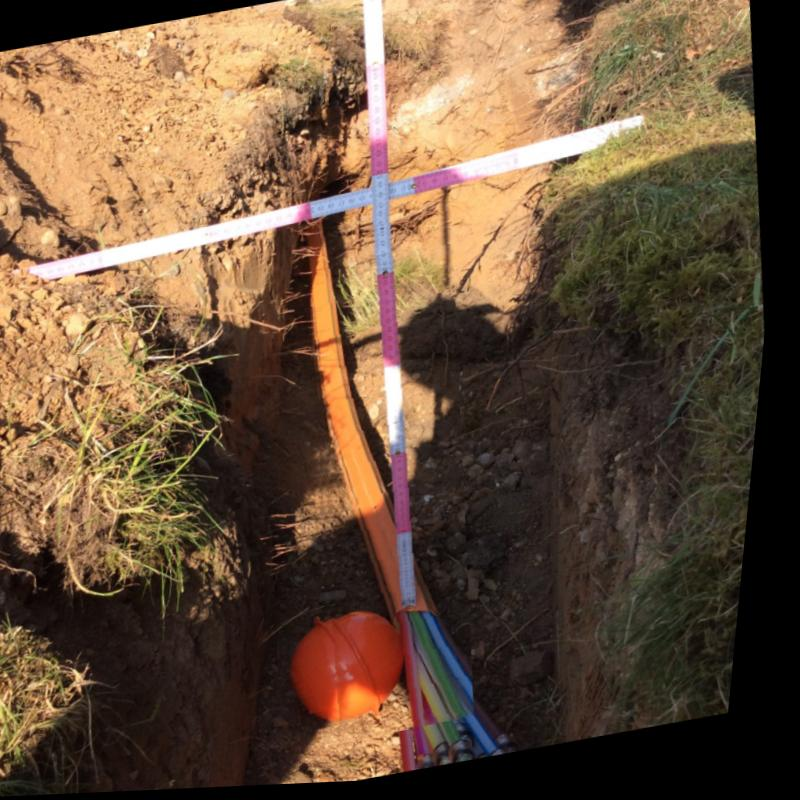Kugelmarker: (300, 618, 404, 729)
Orang-Speednetrohrchen: (307, 223, 488, 732)
